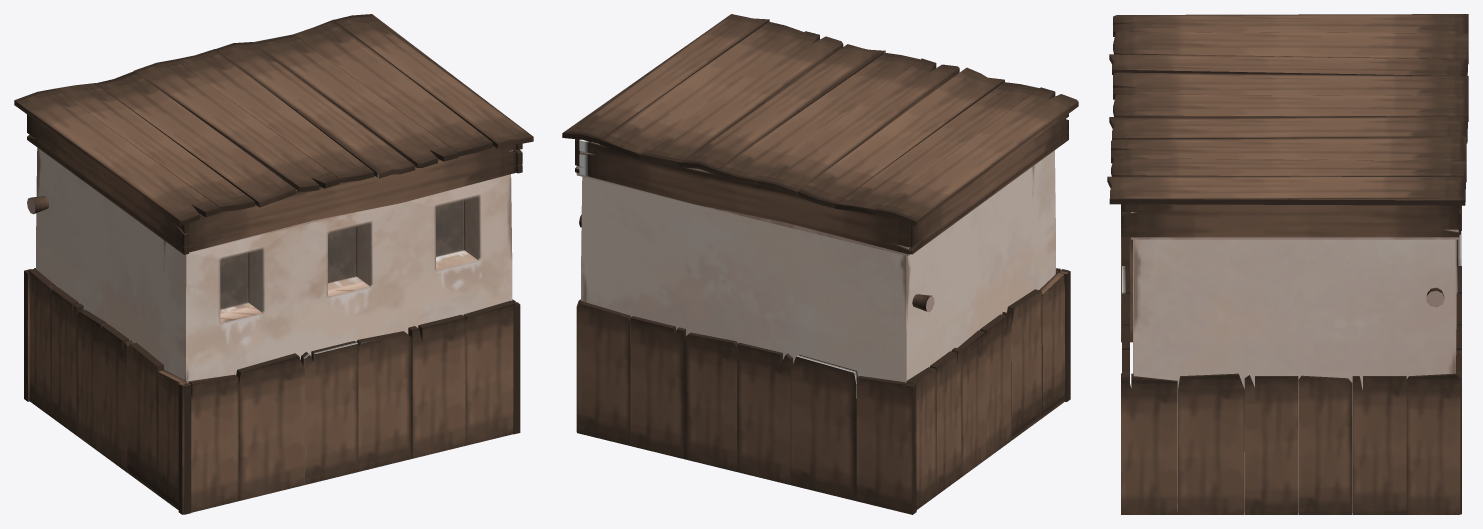
File: Maisonette.FBX
3 views of the same model, side by side, from view 1: azimuth 30°, elevation 25°; view 2: azimuth 150°, elevation 25°; view 3: azimuth 270°, elevation 25° (orthographic). The views are drawn at different scales.
Parts seen in each view (by area): view 1: Z3_sturcture_1_Parts001, Z3_structure_1; view 2: Z3_sturcture_1_Parts001, Z3_structure_1; view 3: Z3_sturcture_1_Parts001, Z3_structure_1.
Boxes of the visible parts, x1,y1,x2,y2 form: Z3_sturcture_1_Parts001: [14, 14, 533, 514]; Z3_structure_1: [36, 147, 513, 382]; Z3_sturcture_1_Parts001: [562, 14, 1078, 514]; Z3_structure_1: [576, 142, 1055, 383]; Z3_sturcture_1_Parts001: [1107, 14, 1468, 514]; Z3_structure_1: [1131, 212, 1458, 512].
Bounding box in the file's own units: 461 × 374 × 377.
